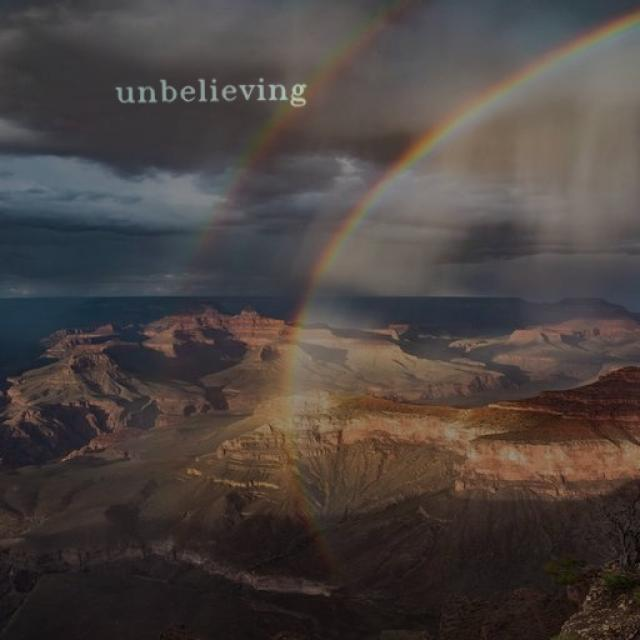watermark: (106, 76, 308, 106)
